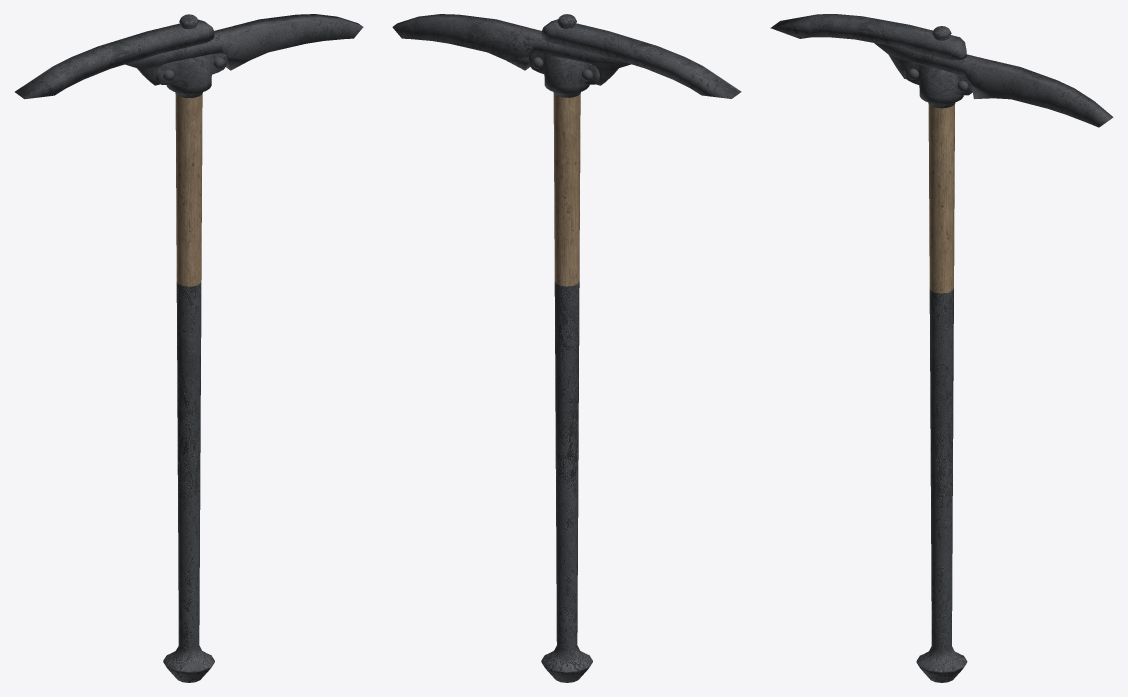
Rendered from MetalPickaxe.fbx.
3 renders of one model, left to right at view 1: azimuth 30°, elevation 25°; view 2: azimuth 150°, elevation 25°; view 3: azimuth 330°, elevation 25°, orthographic.
Visible parts, largest first — view 1: MetalPickaxe_LOD0; view 2: MetalPickaxe_LOD0; view 3: MetalPickaxe_LOD0.
Part boxes in pixels (x1,y1,x2,y2): MetalPickaxe_LOD0: [15, 14, 363, 682]; MetalPickaxe_LOD0: [392, 14, 741, 682]; MetalPickaxe_LOD0: [770, 14, 1113, 682].
Size of what is drawn, in the model's own units: 55.43 by 102 by 7.25.
